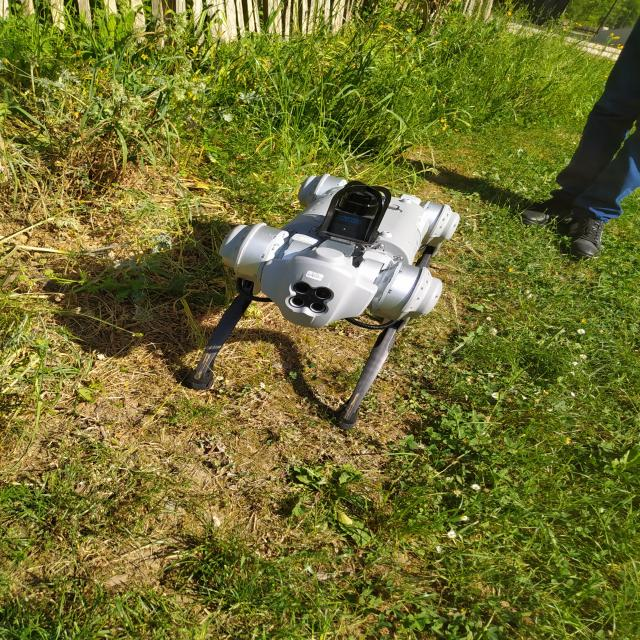unitree-go1-robot: (228, 174, 458, 422), (228, 388, 260, 418)
